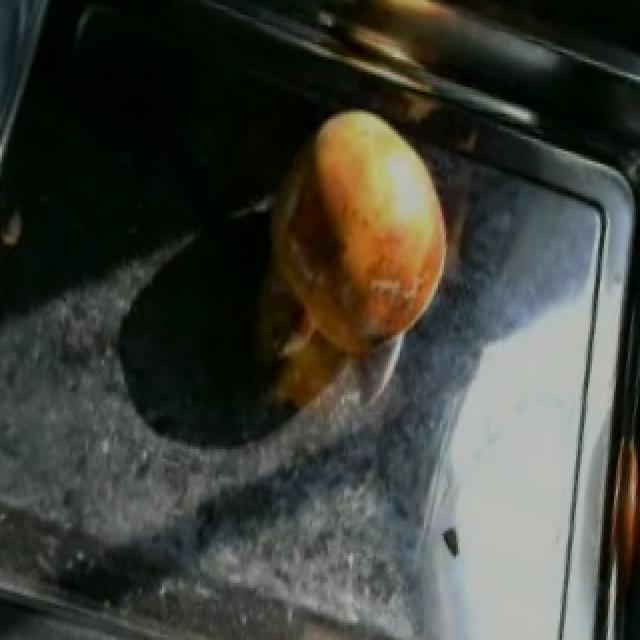fruit: (254, 92, 470, 374)
